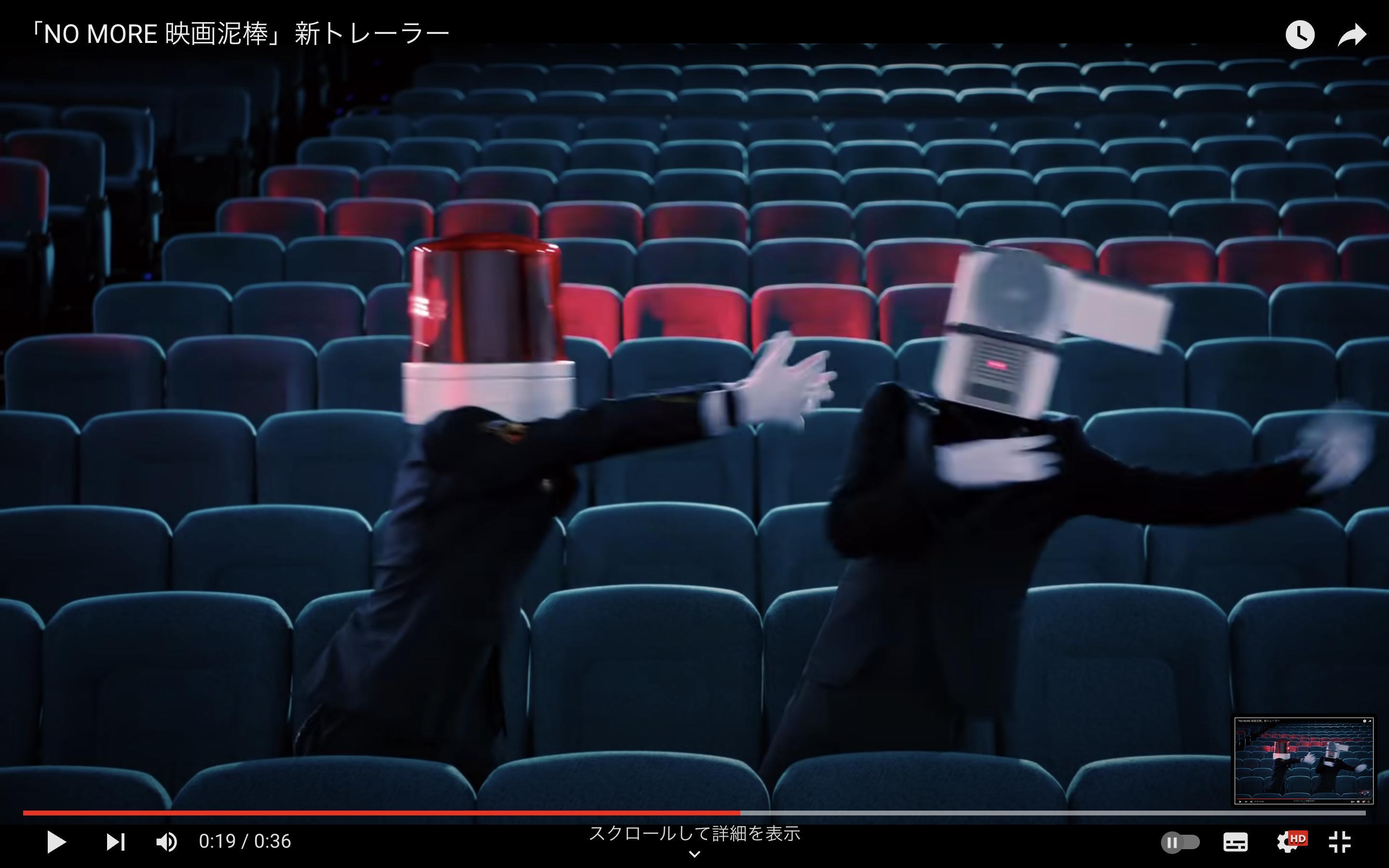no more kid: (923, 233, 1185, 429)
